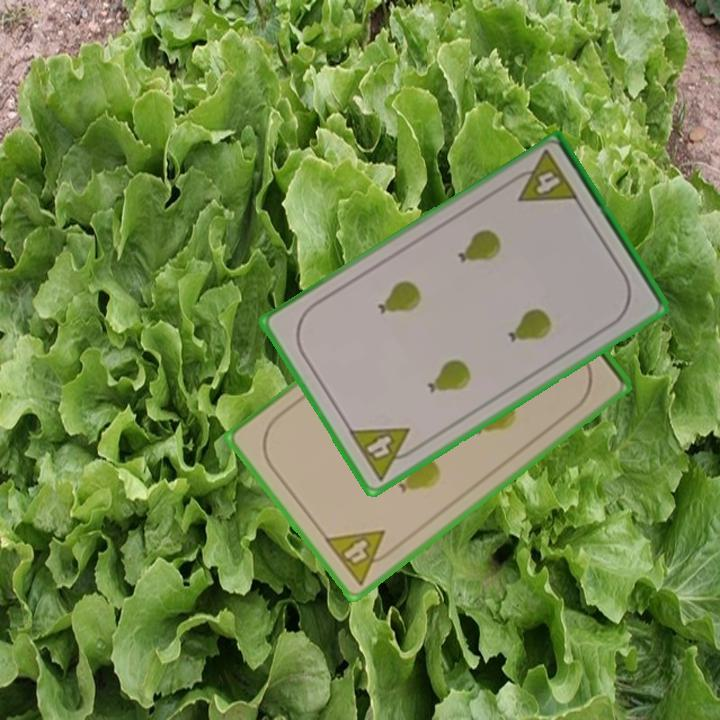4p: (320, 526, 400, 589), (345, 424, 423, 484), (505, 147, 582, 206)
